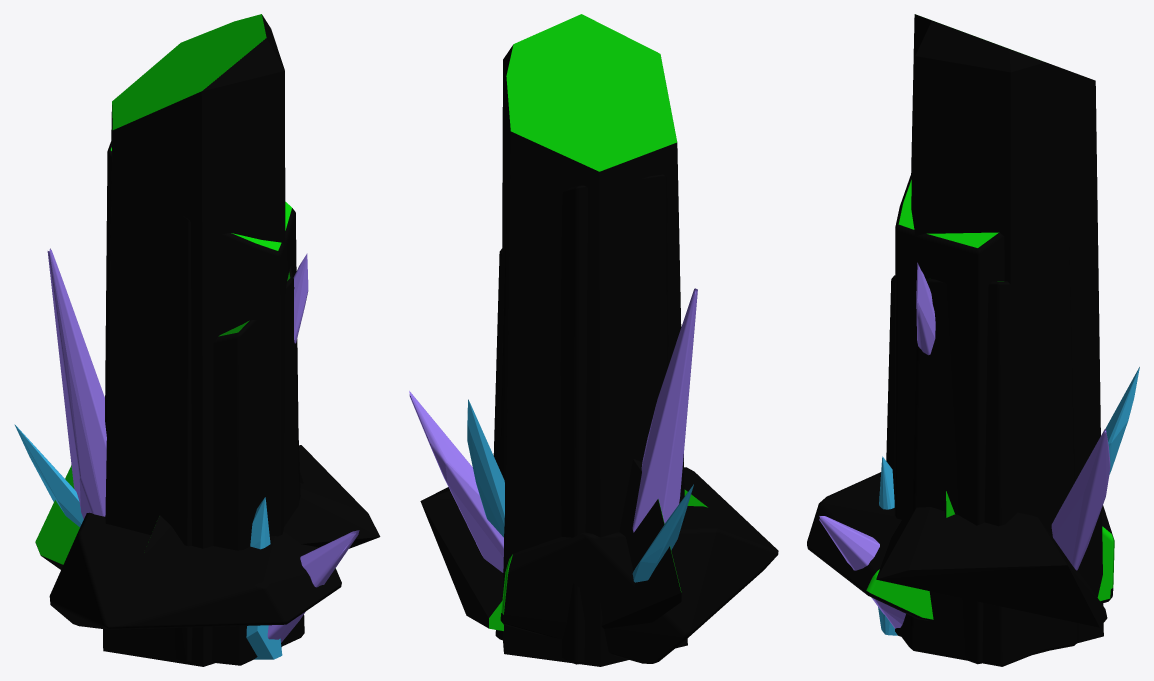
File: Crystal_Shards.fbx
The picture shows the model from 3 angles, left to right: view 1: azimuth 30°, elevation 25°; view 2: azimuth 150°, elevation 25°; view 3: azimuth 270°, elevation 25°; orthographic projection. The views are drawn at different scales.
Visible parts, largest first — view 1: Crystal_Pillar_01, Crystal_Chunk_03, Crystal_Pillar_04, Crystal_Pillar_03, Crystal_Cluster_02, Crystal_Chunk_01, Crystal_Cluster_01, Crystal_Chunk_02; view 2: Crystal_Pillar_01, Crystal_Chunk_03, Crystal_Pillar_04, Crystal_Cluster_02, Crystal_Chunk_01, Crystal_Chunk_02, Crystal_Cluster_01, Crystal_Pillar_03; view 3: Crystal_Pillar_01, Crystal_Pillar_04, Crystal_Pillar_03, Crystal_Chunk_01, Crystal_Chunk_03, Crystal_Cluster_02, Crystal_Cluster_01.
Part boxes in pixels (x1,y1,x2,y2): Crystal_Pillar_01: (103, 14, 285, 666); Crystal_Chunk_03: (49, 512, 341, 629); Crystal_Pillar_04: (103, 139, 298, 663); Crystal_Pillar_03: (212, 265, 304, 665); Crystal_Cluster_02: (47, 248, 359, 642); Crystal_Chunk_01: (143, 445, 380, 553); Crystal_Cluster_01: (14, 424, 282, 659); Crystal_Chunk_02: (35, 465, 303, 569); Crystal_Pillar_01: (502, 14, 687, 666); Crystal_Chunk_03: (500, 467, 778, 663); Crystal_Pillar_04: (495, 173, 668, 664); Crystal_Cluster_02: (409, 288, 697, 572); Crystal_Chunk_01: (420, 487, 707, 631); Crystal_Chunk_02: (601, 459, 681, 628); Crystal_Cluster_01: (467, 399, 693, 582); Crystal_Pillar_03: (493, 248, 502, 469); Crystal_Pillar_01: (911, 14, 1103, 654); Crystal_Pillar_04: (894, 174, 1078, 664); Crystal_Pillar_03: (886, 275, 1040, 666); Crystal_Chunk_01: (876, 507, 1107, 627); Crystal_Chunk_03: (807, 472, 1114, 620); Crystal_Cluster_02: (819, 262, 1110, 628); Crystal_Cluster_01: (878, 367, 1139, 635).
Bounding box in the file's own units: 50.64 × 102 × 49.75.
